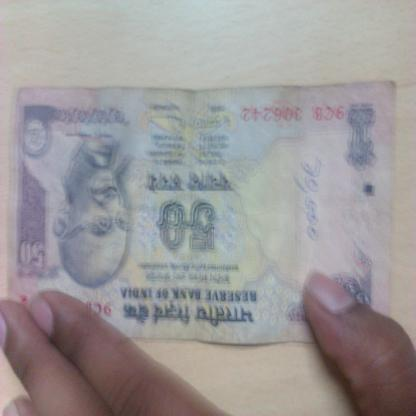Old50Front: (9, 80, 398, 347)
